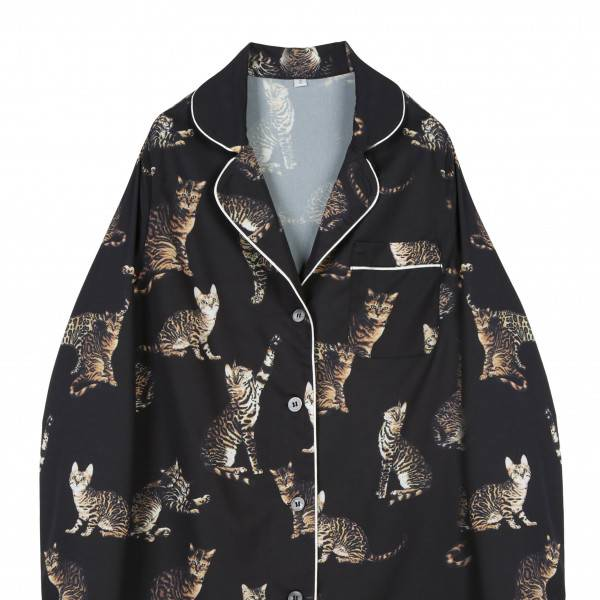cat: (203, 326, 287, 487), (121, 174, 199, 285), (371, 397, 435, 520), (135, 283, 231, 358), (466, 298, 538, 397), (137, 458, 211, 546), (61, 453, 133, 541), (463, 450, 539, 533), (69, 299, 131, 398), (339, 284, 415, 363), (303, 342, 366, 430), (123, 108, 194, 171), (143, 544, 222, 598), (267, 461, 319, 538), (511, 535, 564, 600), (38, 539, 89, 600), (232, 578, 272, 600)
